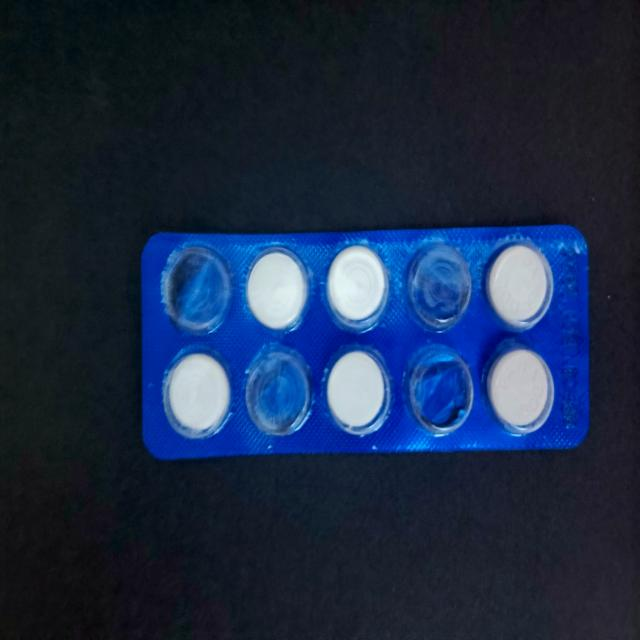defect: (158, 240, 236, 340), (403, 341, 477, 439), (243, 343, 317, 440), (402, 240, 475, 334)
